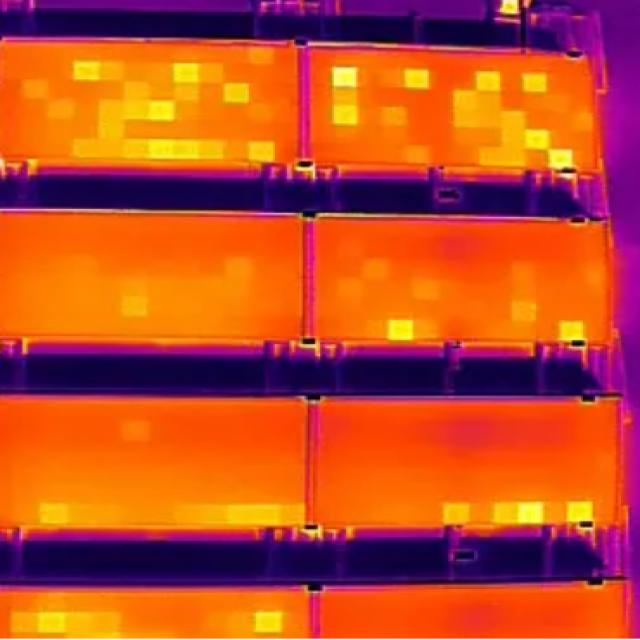hotspot group: (14, 50, 285, 164), (318, 57, 583, 172), (4, 593, 300, 640), (31, 490, 319, 535), (431, 485, 609, 536), (371, 303, 448, 354), (546, 308, 597, 353)
panel with hotspots: (305, 206, 636, 371), (0, 385, 314, 555), (314, 387, 639, 551), (305, 35, 612, 193), (0, 29, 308, 185)
